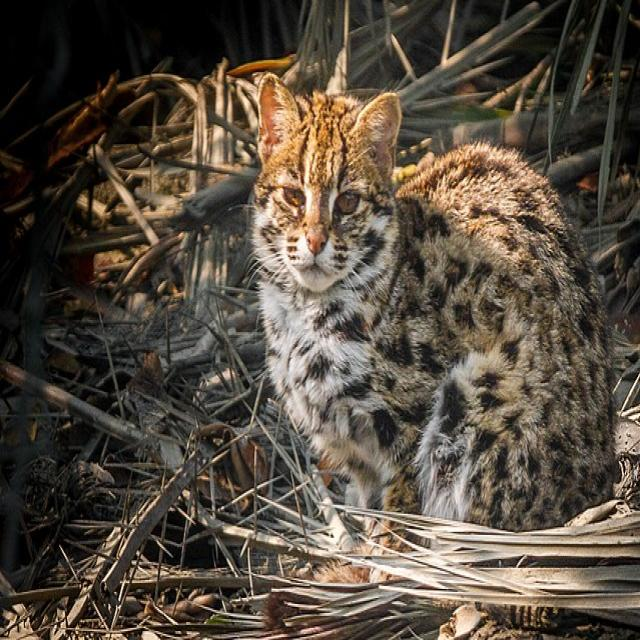leopard: (226, 61, 598, 514)
